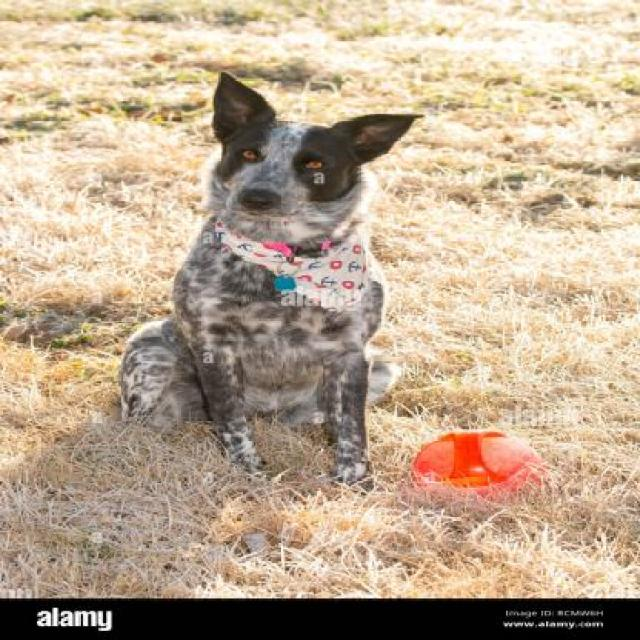animals: (142, 65, 430, 523)
